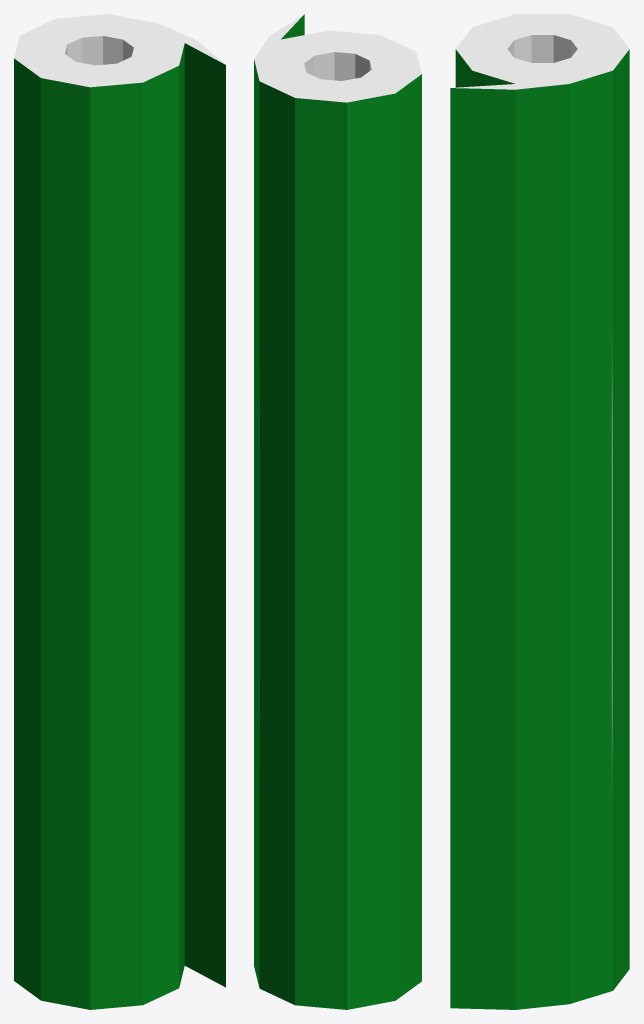
Rendered from wrapping-paper.fbx.
3 renders of one model, left to right at view 1: azimuth 30°, elevation 25°; view 2: azimuth 150°, elevation 25°; view 3: azimuth 270°, elevation 25°, orthographic.
Visible parts, largest first — view 1: Cylinder; view 2: Cylinder; view 3: Cylinder.
Boxes of the visible parts, x1=… form: Cylinder: x1=14, y1=14, x2=225, y2=1009; Cylinder: x1=254, y1=14, x2=421, y2=1009; Cylinder: x1=450, y1=14, x2=629, y2=1009.
Bounding box in the file's own units: 61.76 × 350 × 61.82.
1 material, 1 textured.
